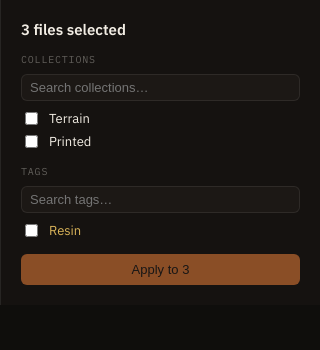
Test: BatchAssignPanel › stages a folder and enables Apply
What coordinates should you click on to do the following:
click the checkbox labelled "Terrain"
I would click on:
 (32, 118)
Its box is x1=25 y1=112 x2=38 y2=125.
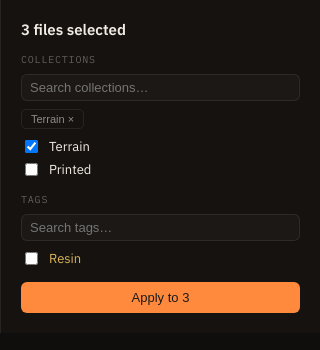
Check: the button "Apply to 3" is enabled, box x1=21 y1=282 x2=300 y2=313
